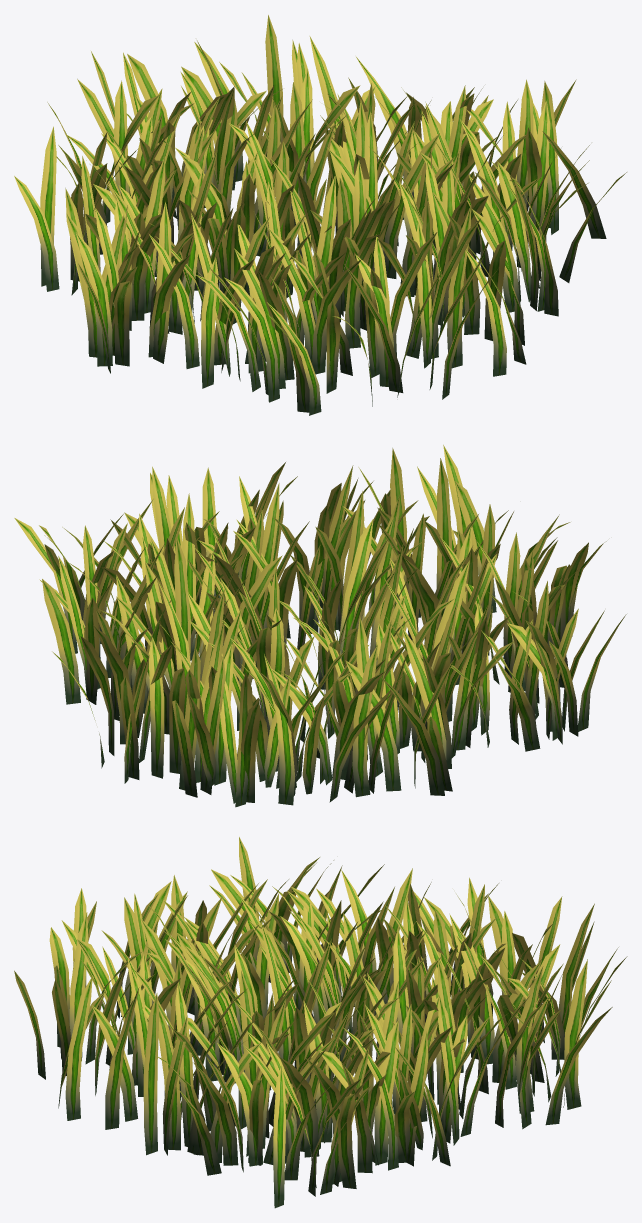
File: grass2.obj
The picture shows the model from 3 angles, top to bottom: view 1: azimuth 30°, elevation 25°; view 2: azimuth 150°, elevation 25°; view 3: azimuth 270°, elevation 25°; orthographic projection. The views are drawn at different scales.
Parts seen in each view (by area): view 1: object_0; view 2: object_0; view 3: object_0.
Part boxes in pixels (bbox=[...]): object_0: bbox=[14, 15, 626, 415]; object_0: bbox=[14, 445, 626, 807]; object_0: bbox=[14, 837, 627, 1208].
Bounding box in the file's own units: 738 × 199 × 735.
Materials: 1 (1 with a texture image).
